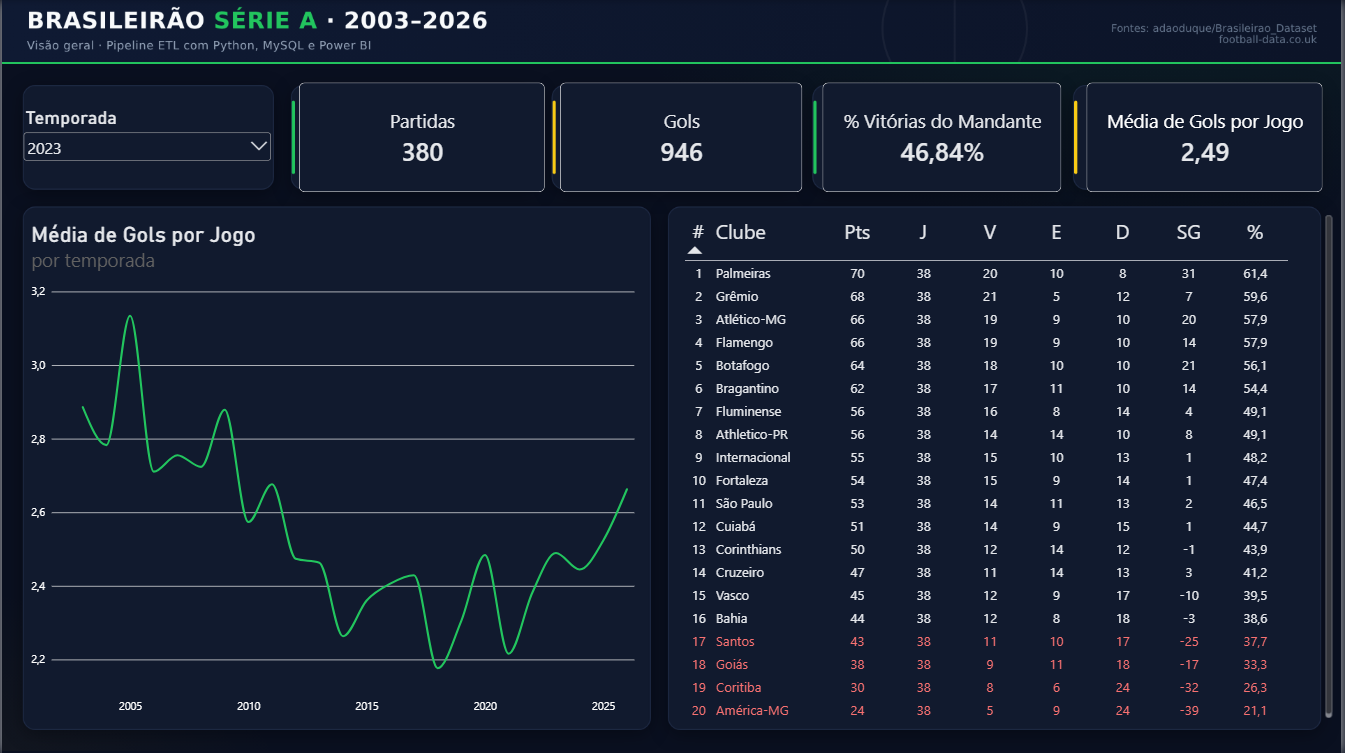

This screenshot's page, from the dashboard's own definition file:
{"tool":"powerbi","page":{"name":"Página 1","canvas":[1920,1080],"ordinal":0},"visuals":[{"type":"slicer","fields":{"Values":["dim_temporada.ano_temporada"]},"box":[26.2,152.4,364.3,123.8],"z":0},{"type":"cardVisual","fields":{"Data":["fato_partida.Partidas"]},"box":[426.2,119,352.4,157.1],"z":1000},{"type":"cardVisual","fields":{"Data":["fato_partida.Gols"]},"box":[800,119,347.6,157.1],"z":2000},{"type":"cardVisual","fields":{"Data":["fato_partida.Média de Gols por Jogo"]},"box":[1552.4,119,338.1,157.1],"z":3000},{"type":"cardVisual","fields":{"Data":["fato_partida.% Vitórias do Mandante"]},"box":[1176.2,119,342.9,157.1],"z":4000},{"type":"lineChart","title":"Média de Gols por Jogo ","fields":{"Category":["dim_temporada.ano_temporada"],"Y":["fato_partida.Média de Gols por Jogo"]},"box":[26.2,302.4,902.4,740.5],"z":5000},{"type":"tableEx","title":"Tabela de Classificação","fields":{"Values":[" vw_classificacao.posicao"," vw_classificacao.clube","Sum( vw_classificacao.pontos)","Sum( vw_classificacao.jogos)","Sum( vw_classificacao.vitorias)","Sum( vw_classificacao.empates)","Sum( vw_classificacao.derrotas)","Sum( vw_classificacao.saldo_gols)","Sum( vw_classificacao.aproveitamento_pct)"]},"box":[960.4,294.4,960.4,749.9],"z":6000}]}

Visuals, with their boxes in screenshot pixels (x1, y1, x2, y2), scaled from the page's 1920x1080 canvas onto the 1345x753 screenshot:
slicer - dim_temporada.ano_temporada: 18:106:274:193
cardVisual - fato_partida.Partidas: 299:83:545:193
cardVisual - fato_partida.Gols: 560:83:804:193
cardVisual - fato_partida.Média de Gols por Jogo: 1087:83:1324:193
cardVisual - fato_partida.% Vitórias do Mandante: 824:83:1064:193
"Média de Gols por Jogo " lineChart: 18:211:651:727
"Tabela de Classificação" tableEx: 673:205:1344:728
